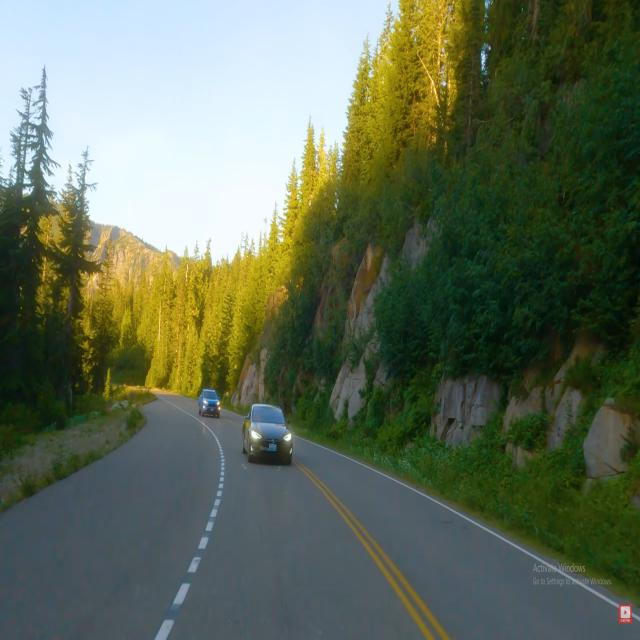headlights: (248, 428, 295, 457), (202, 396, 221, 415)
